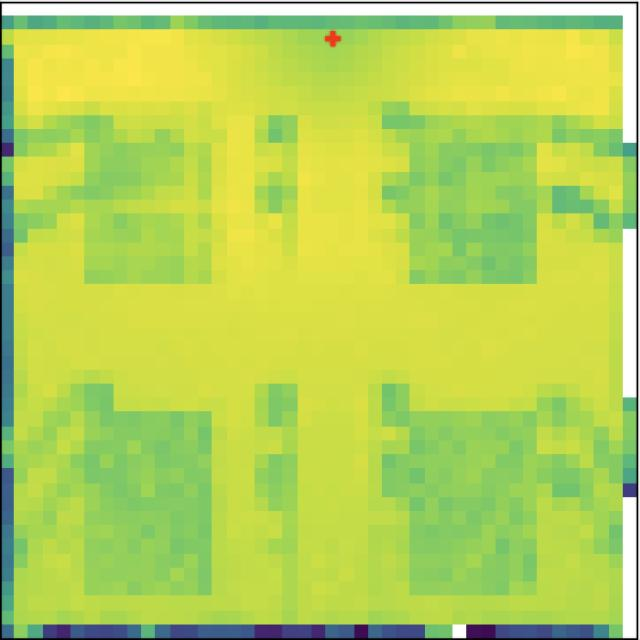Concrete: (75, 396, 221, 608)
Glass: (386, 81, 554, 304)
Metal: (70, 116, 232, 305)
Wood: (390, 399, 548, 602)
